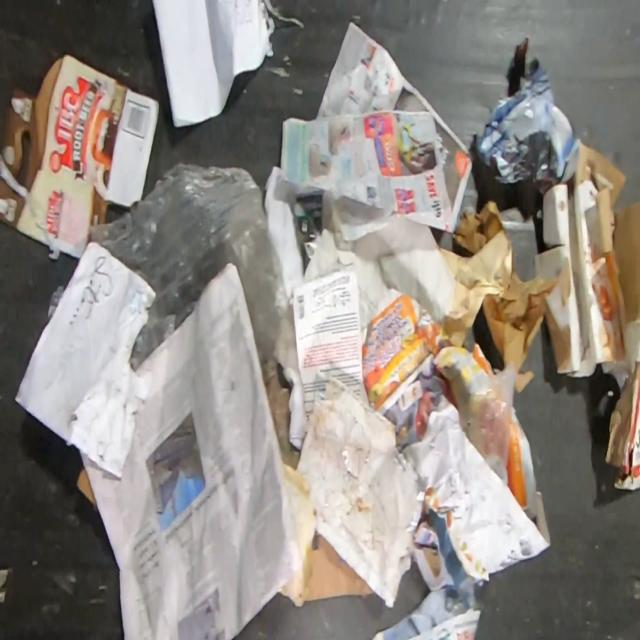cardboard: (1, 50, 160, 259), (534, 135, 640, 394), (302, 532, 374, 602), (604, 361, 640, 492), (0, 174, 49, 247), (70, 464, 97, 509)
soft_plastic: (88, 163, 298, 385), (458, 360, 516, 486), (48, 282, 70, 322)
